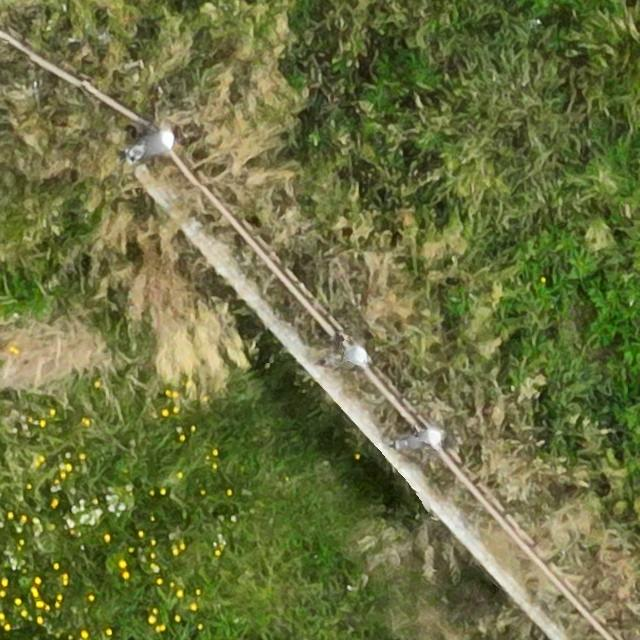umineko: (394, 429, 440, 452), (134, 131, 174, 156), (340, 346, 368, 368)
